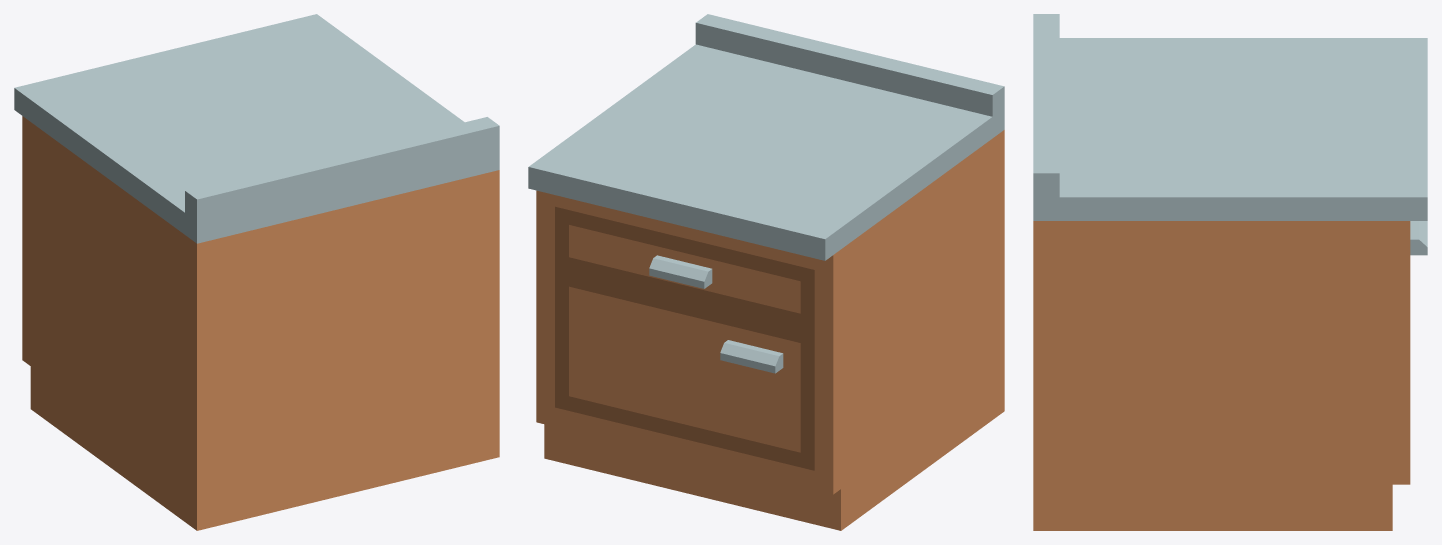
The model's file is Kitchen Cabinet Drawer.glb.
3 renders of one model, left to right at view 1: azimuth 30°, elevation 25°; view 2: azimuth 150°, elevation 25°; view 3: azimuth 270°, elevation 25°, orthographic. The views are drawn at different scales.
Parts seen in each view (by area): view 1: kitchenCabinetDrawer; view 2: kitchenCabinetDrawer, door, drawer; view 3: kitchenCabinetDrawer, door.
Part boxes in pixels (left/top/right/bottom): kitchenCabinetDrawer: left=14, top=14, right=499, bottom=530; kitchenCabinetDrawer: left=528, top=14, right=1004, bottom=530; door: left=555, top=268, right=814, bottom=470; drawer: left=555, top=206, right=814, bottom=331; kitchenCabinetDrawer: left=1033, top=14, right=1427, bottom=530; door: left=1410, top=221, right=1427, bottom=255.
Bounding box in the file's own units: 0.43 × 0.45 × 0.45.
